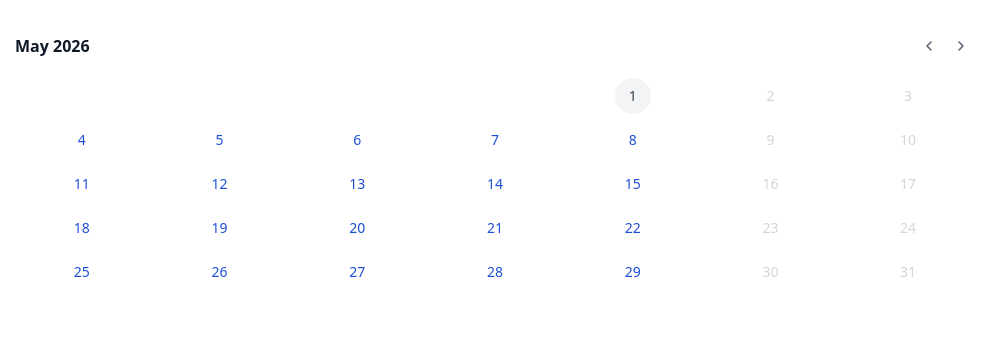
TimePicker › day selection and time slots › shows 'Calendar unavailable' when API returns 503
Click the button "1" at (633, 96), box [615,78,651,114]
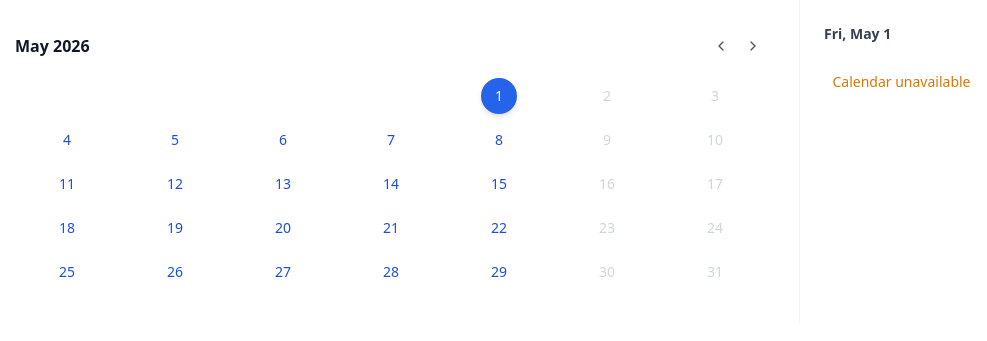
expect the text "Calendar unavailable" is shown: met, box [832,72,971,91]
